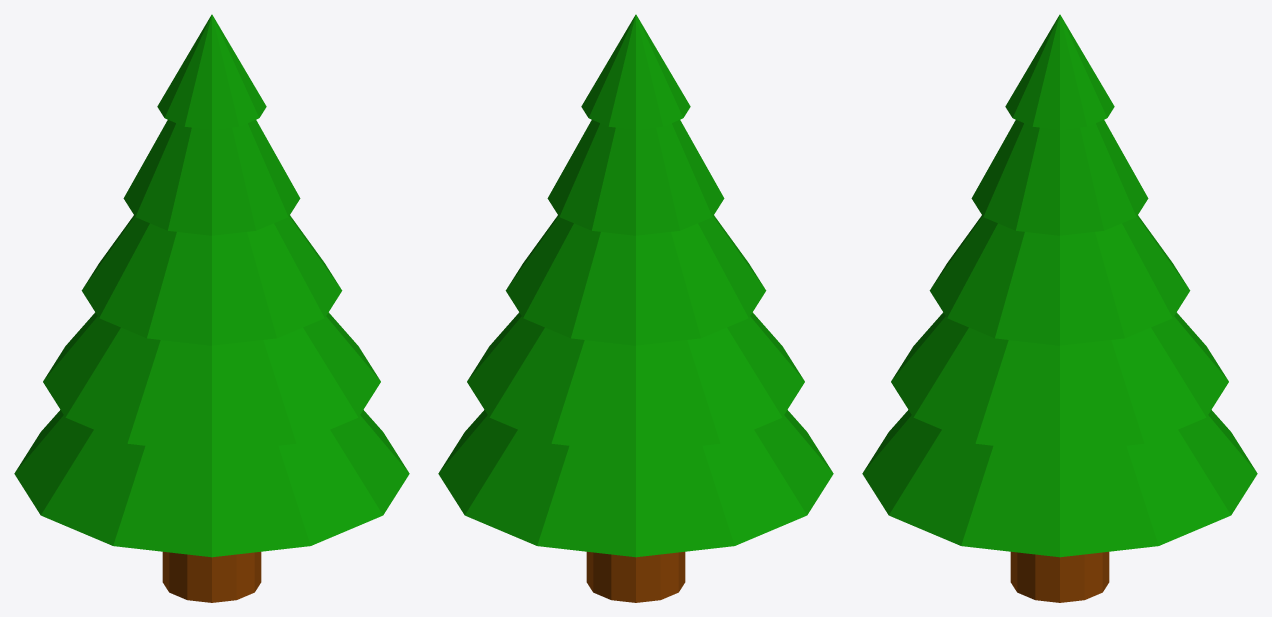
Rendered from Pino.fbx.
3 views of the same model, side by side, from view 1: azimuth 30°, elevation 25°; view 2: azimuth 150°, elevation 25°; view 3: azimuth 270°, elevation 25° (orthographic).
Visible parts, largest first — view 1: Cylinder; view 2: Cylinder; view 3: Cylinder.
Boxes of the visible parts, x1,y1,x2,y2 form: Cylinder: [14, 14, 409, 602]; Cylinder: [438, 14, 833, 602]; Cylinder: [862, 14, 1257, 602].
Bounding box in the file's own units: 962 × 1525 × 962.
